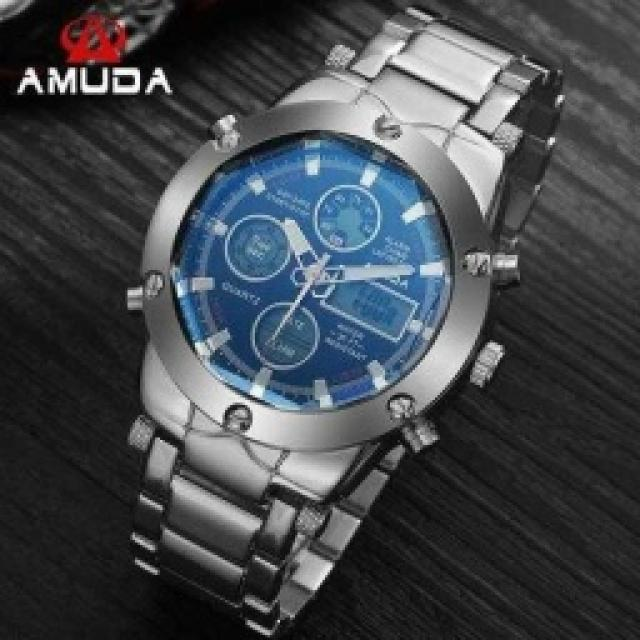saat: (113, 2, 585, 640)
